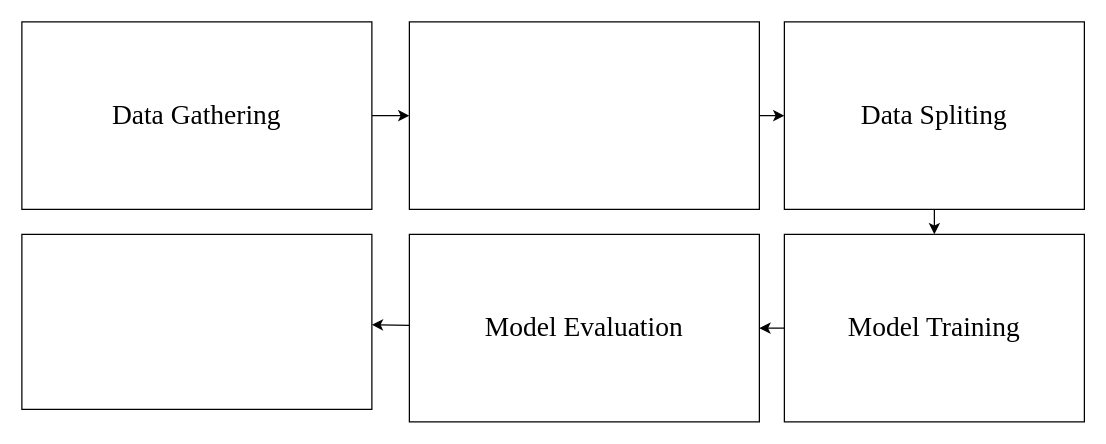
This 1106x444 diagram has some shape labels left out. The box of each missing label's shape, as (x1, y1, x2, y2) in pixels:
Data Preprocessing: (408, 21, 759, 209)
Output Results: (21, 233, 372, 409)
